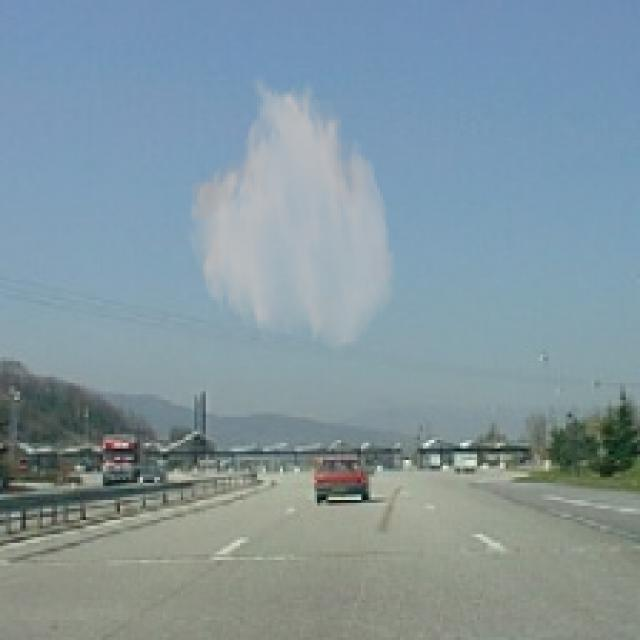smoke: (186, 72, 397, 354)
